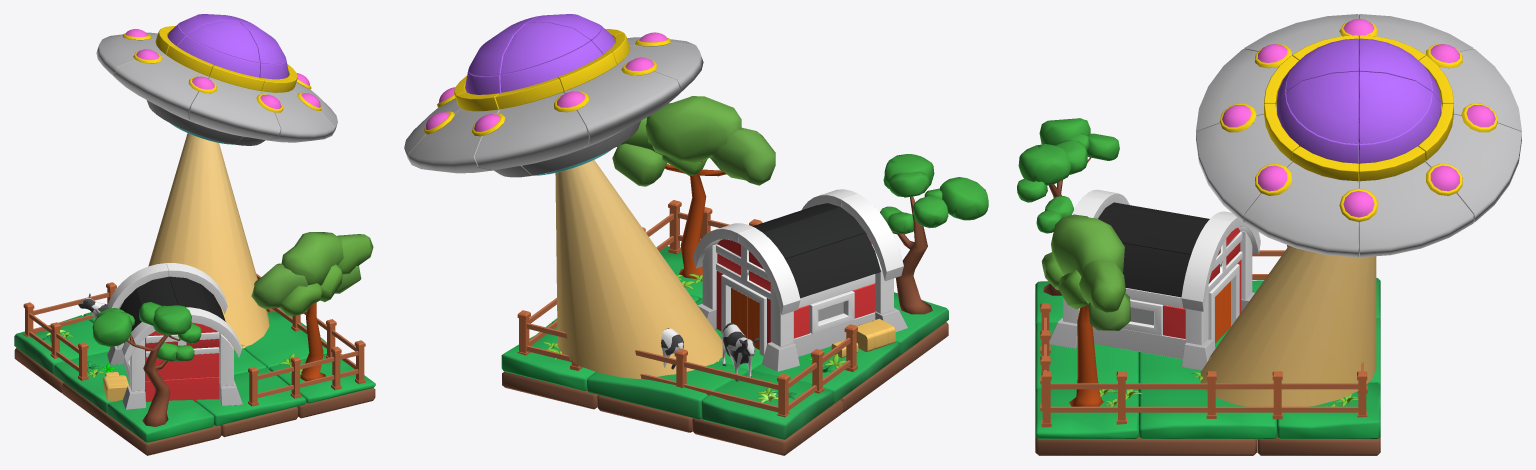
Rendered from Level_P_46.fbx.
3 renders of one model, left to right at view 1: azimuth 30°, elevation 25°; view 2: azimuth 150°, elevation 25°; view 3: azimuth 270°, elevation 25°, orthographic. The views are drawn at different scales.
Visible parts, largest first — view 1: pCylinder4.001, Text.001, UFO_12, UFO_2, grass, grass.004, Circle.022, dirt.001, UFO_29, grass.002, grass.007, UFO_19 (+40 smaller); view 2: pCylinder4.001, Text.001, UFO_13, UFO_3, grass.007, Circle.022, grass.006, LV2_Storehouse_1.001, UFO_28, UFO_18, LV2_Storehouse_2.001, grass.008 (+42 smaller); view 3: pCylinder4.001, Text.001, UFO_39, UFO_38, UFO_28, UFO_29, grass.002, UFO_22, UFO_23, dirt, grass.003, grass.001 (+53 smaller).
Part boxes in pixels (x1,y1,x2,y2): pCylinder4.001: (148,133,269,348); Text.001: (23,273,365,406); UFO_12: (188,77,280,140); UFO_2: (114,56,209,121); grass: (107,399,214,442); grass.004: (195,367,306,426); Circle.022: (281,232,343,285); dirt.001: (62,382,221,455); UFO_29: (260,90,334,142); grass.002: (244,311,326,368); grass.007: (14,315,110,374); UFO_19: (187,20,259,62); pCylinder4.001: (555,160,722,378); Text.001: (517,200,857,417); UFO_13: (474,92,589,170); UFO_3: (563,66,680,147); grass.007: (701,371,833,439); Circle.022: (645,96,741,163); grass.006: (587,361,748,419); LV2_Storehouse_1.001: (785,233,880,298); UFO_28: (408,108,500,173); UFO_18: (500,22,590,74); LV2_Storehouse_2.001: (763,207,865,258); grass.008: (751,341,899,403); pCylinder4.001: (1199,245,1376,406); Text.001: (1040,245,1367,427); UFO_39: (1244,143,1358,257); UFO_38: (1359,162,1473,257); UFO_28: (1425,114,1521,222); UFO_29: (1196,114,1292,222); grass.002: (1139,389,1276,439); UFO_22: (1286,71,1358,143); UFO_23: (1359,71,1431,143); dirt: (1035,437,1256,455); grass.003: (1035,389,1138,439); grass.001: (1277,382,1380,439).
Size of the model in its own units: 13.74 by 11.51 by 13.66.
